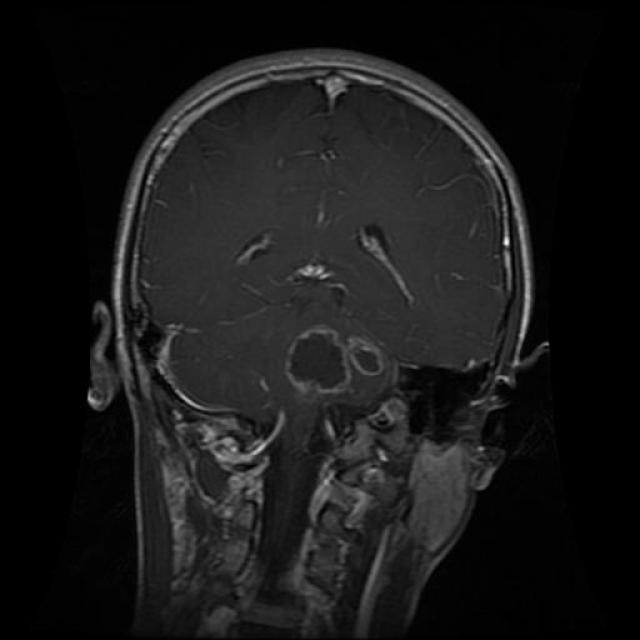glioma: (288, 322, 387, 400)
